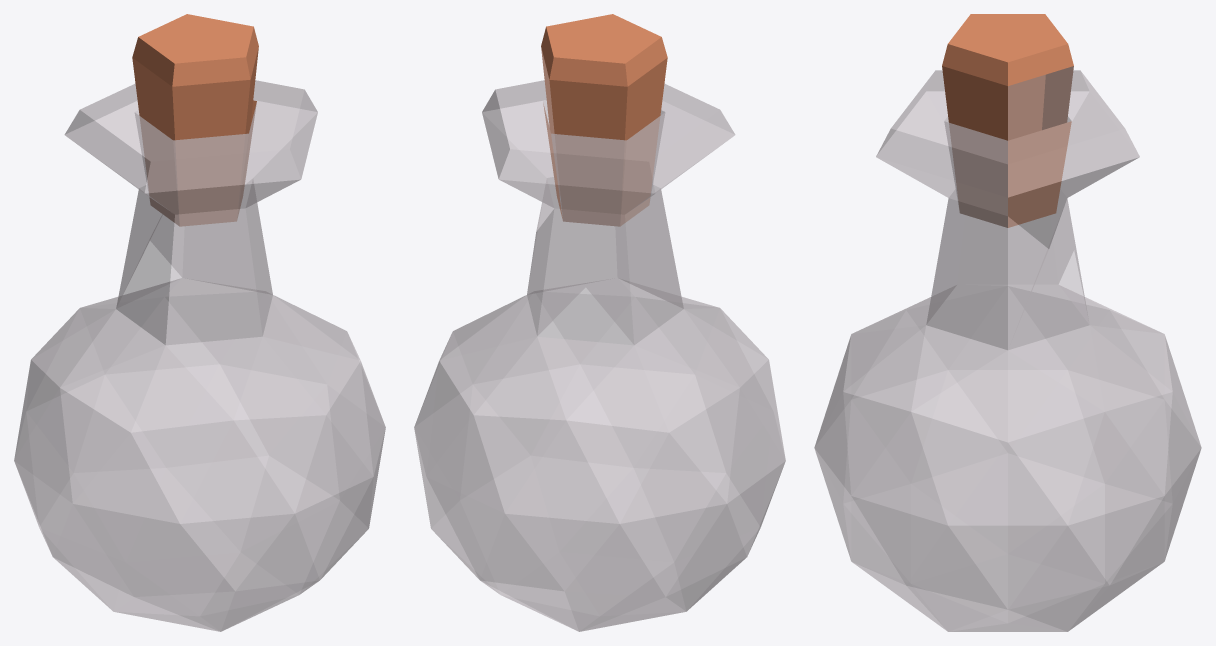
File: weapon_basicPotion_shatter.fbx
3 renders of one model, left to right at view 1: azimuth 30°, elevation 25°; view 2: azimuth 150°, elevation 25°; view 3: azimuth 270°, elevation 25°, orthographic.
Visible parts, largest first — view 1: bottleHead.004, bottle.002, plug, bottle.009, bottle.008, bottle.006, bottle.001, bottle.005, bottle.014, bottle.013, bottleHead.003, bottle.011 (+7 smaller); view 2: bottle.003, bottle.011, plug, bottle.001, bottle.007, bottle.002, bottleHead.001, bottleHead.004, bottle.009, bottle.004, bottle.008, bottle.006 (+7 smaller); view 3: bottle.001, bottle.005, bottleHead.003, plug, bottle.010, bottle.014, bottle.009, bottleHead.004, bottle.012, bottle.011, bottle.002, bottle.004 (+7 smaller).
Boxes of the visible parts, bbox=[...] form: bottleHead.004: bbox=[64, 84, 300, 345]; bottle.002: bbox=[131, 278, 325, 590]; plug: bbox=[132, 14, 258, 226]; bottle.009: bbox=[27, 375, 239, 610]; bottle.008: bbox=[74, 297, 268, 472]; bottle.006: bbox=[167, 385, 339, 615]; bottle.001: bbox=[234, 295, 385, 525]; bottle.005: bbox=[165, 292, 384, 454]; bottle.014: bbox=[53, 504, 234, 631]; bottle.013: bbox=[60, 345, 179, 523]; bottleHead.003: bbox=[182, 89, 317, 335]; bottle.011: bbox=[14, 308, 164, 503]; bottle.003: bbox=[531, 364, 725, 615]; bottle.011: bbox=[566, 309, 785, 523]; plug: bbox=[541, 14, 667, 226]; bottle.001: bbox=[453, 278, 714, 454]; bottle.007: bbox=[474, 337, 633, 523]; bottle.002: bbox=[439, 295, 773, 472]; bottleHead.001: bbox=[499, 149, 655, 344]; bottleHead.004: bbox=[511, 83, 735, 344]; bottle.009: bbox=[480, 513, 685, 631]; bottle.004: bbox=[414, 385, 558, 551]; bottle.008: bbox=[426, 415, 563, 591]; bottle.006: bbox=[414, 429, 598, 615]; bottle.001: bbox=[814, 325, 1007, 584]; bottle.005: bbox=[948, 350, 1172, 584]; bottleHead.003: bbox=[876, 121, 1089, 349]; plug: bbox=[942, 14, 1073, 227]; bottle.010: bbox=[911, 453, 1103, 631]; bottle.014: bbox=[843, 370, 1006, 582]; bottle.009: bbox=[1009, 400, 1200, 630]; bottleHead.004: bbox=[876, 70, 1124, 322]; bottle.012: bbox=[949, 370, 1163, 483]; bottle.011: bbox=[949, 285, 1164, 398]; bottle.002: bbox=[814, 293, 1171, 501]; bottle.004: bbox=[906, 525, 1067, 631].
Bounding box in the file's own units: 35.46 × 62.42 × 37.28.
